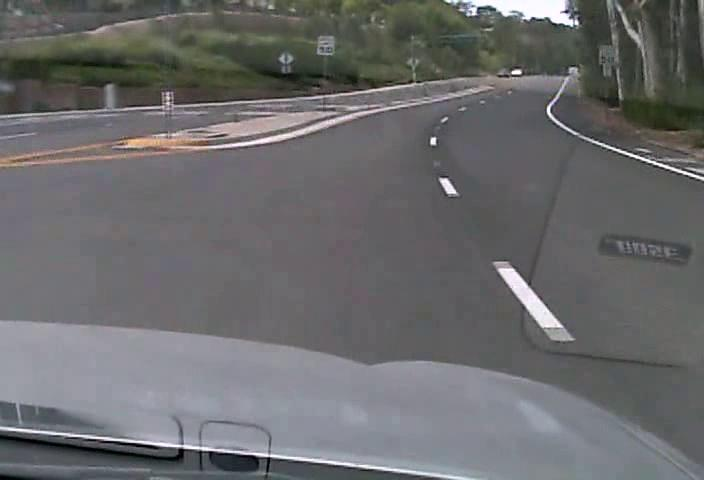speedLimitUrdbl: (316, 34, 336, 56)
